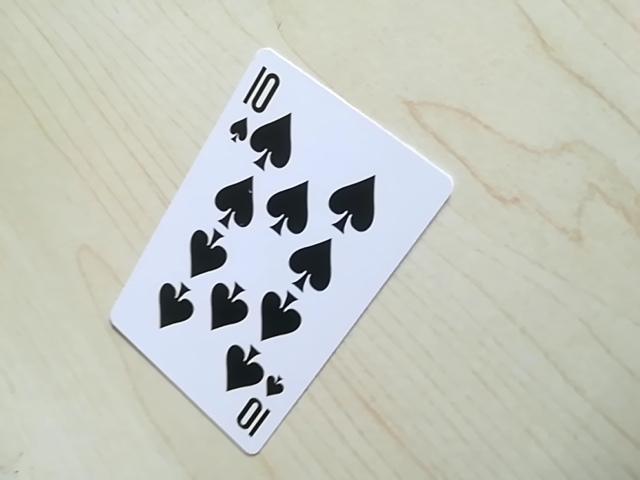ht 10: (221, 57, 290, 161), (224, 380, 290, 446)
